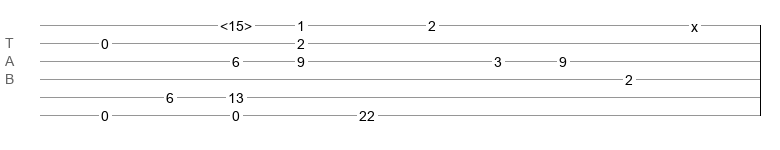0: (101, 108, 109, 118), (101, 36, 109, 46), (232, 108, 240, 118)
1: (297, 18, 305, 28)
13: (228, 90, 244, 100)
2: (297, 36, 305, 46), (428, 18, 436, 28), (625, 72, 633, 82)
22: (359, 108, 375, 118)
3: (494, 54, 502, 64)
6: (166, 90, 174, 100), (232, 54, 240, 64)
9: (297, 54, 305, 64), (559, 54, 567, 64)
harmonic: (220, 18, 252, 28)
x: (691, 19, 698, 27)
